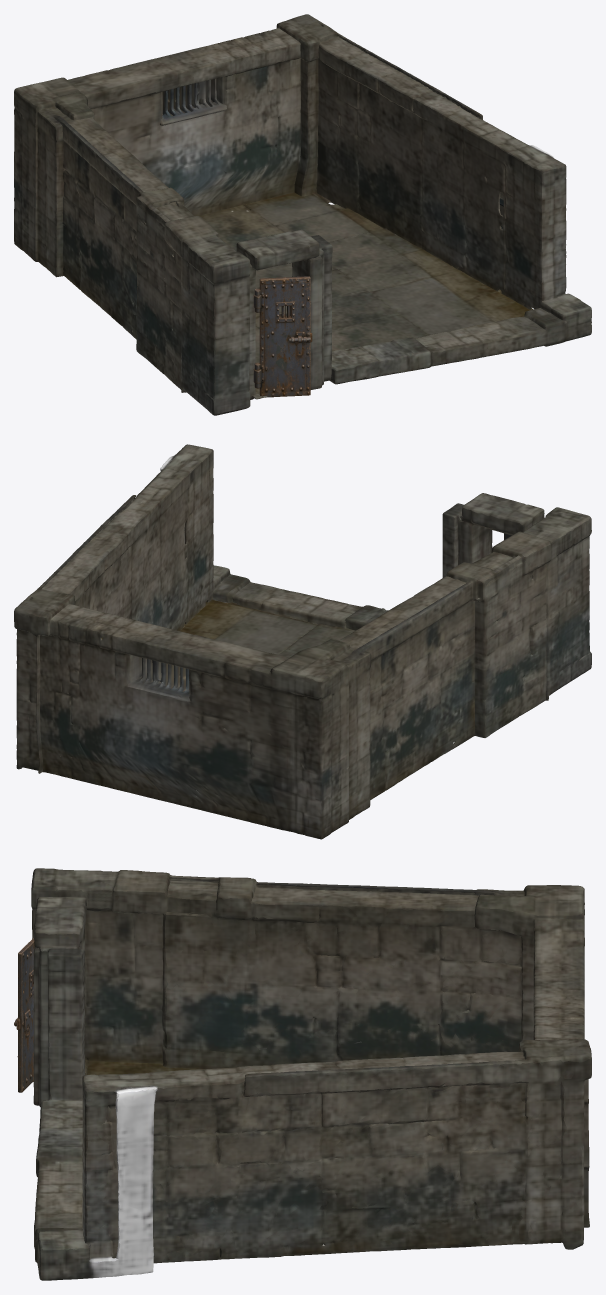
File: solitary-shell.glb
3 views of the same model, one above another, from view 1: azimuth 30°, elevation 25°; view 2: azimuth 150°, elevation 25°; view 3: azimuth 270°, elevation 25° (orthographic). The views are drawn at different scales.
Visible parts, largest first — view 1: 地板与底座, 后墙, 左墙, 右墙, 门洞框体, 锈铁门扇, 前墙剖切边缘, 后窗与铁栅; view 2: 后墙, 左墙, 地板与底座, 右墙, 前墙剖切边缘, 门洞框体, 后窗与铁栅; view 3: 右墙, 左墙, 后墙, 地板与底座, 门洞框体, 前墙剖切边缘, 锈铁门扇.
Boxes of the visible parts, bbox=[...] form: 地板与底座: bbox=[14, 41, 591, 415]; 后墙: bbox=[14, 14, 342, 253]; 左墙: bbox=[39, 96, 231, 398]; 右墙: bbox=[339, 35, 591, 328]; 门洞框体: bbox=[199, 232, 340, 411]; 锈铁门扇: bbox=[253, 276, 312, 397]; 前墙剖切边缘: bbox=[236, 229, 511, 377]; 后窗与铁栅: bbox=[161, 77, 223, 115]; 后墙: bbox=[14, 587, 352, 832]; 左墙: bbox=[305, 520, 575, 807]; 地板与底座: bbox=[16, 517, 591, 839]; 右墙: bbox=[40, 444, 249, 629]; 前墙剖切边缘: bbox=[253, 503, 531, 628]; 门洞框体: bbox=[448, 493, 591, 673]; 后窗与铁栅: bbox=[120, 645, 195, 696]; 右墙: bbox=[35, 1060, 523, 1261]; 左墙: bbox=[68, 870, 521, 1067]; 后墙: bbox=[514, 885, 591, 1232]; 地板与底座: bbox=[33, 1050, 589, 1280]; 门洞框体: bbox=[31, 868, 74, 1104]; 前墙剖切边缘: bbox=[36, 897, 86, 1218]; 锈铁门扇: bbox=[14, 938, 34, 1092].
Bounding box in the file's own units: 10.19 × 4.35 × 11.29.
Materials: 3 (3 with a texture image).
